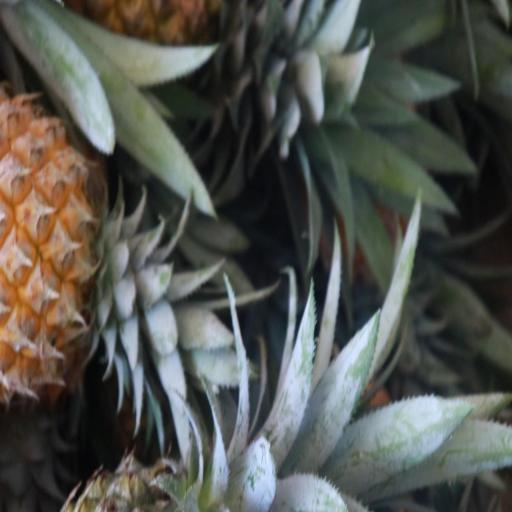Pineapple - v8 v1: (0, 93, 141, 394)
